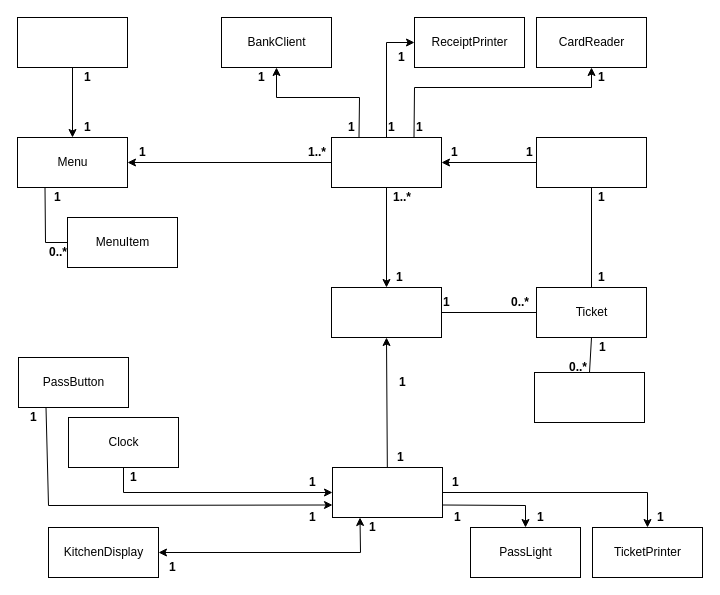
Image size: 720x595. Some labels were removed from this diagram. The shapes that lost their labels are listed below. From the top down, each one's centre as x and y in pixels, then its label:
(x=72, y=42): OfficeKVM
(x=386, y=162): TableConnection
(x=591, y=162): TableDisplay
(x=386, y=312): Rack
(x=589, y=397): TickeItem
(x=387, y=492): KitchenController
